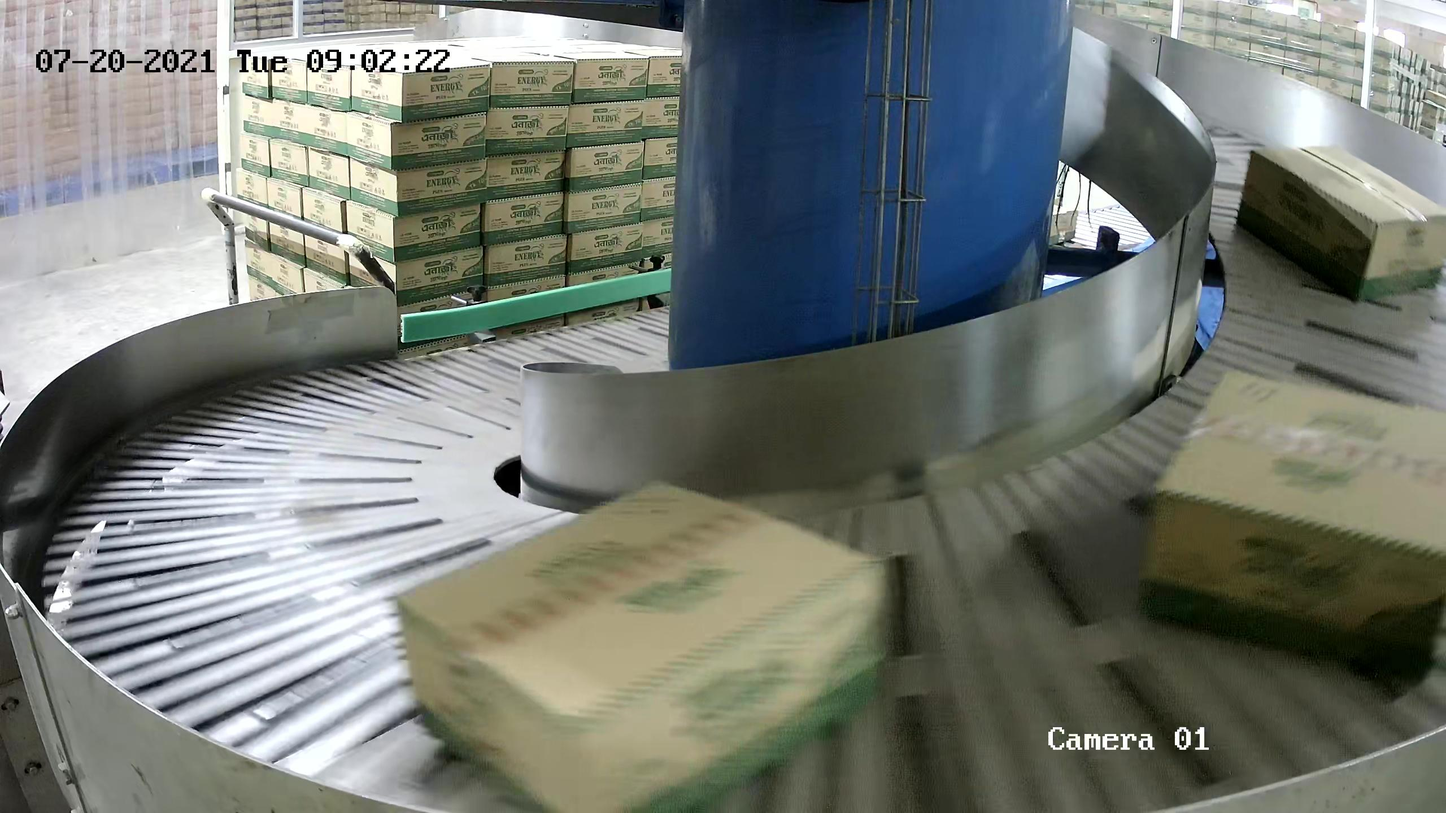Box: (393, 477, 889, 813), (1139, 365, 1446, 673), (1235, 142, 1446, 306)
